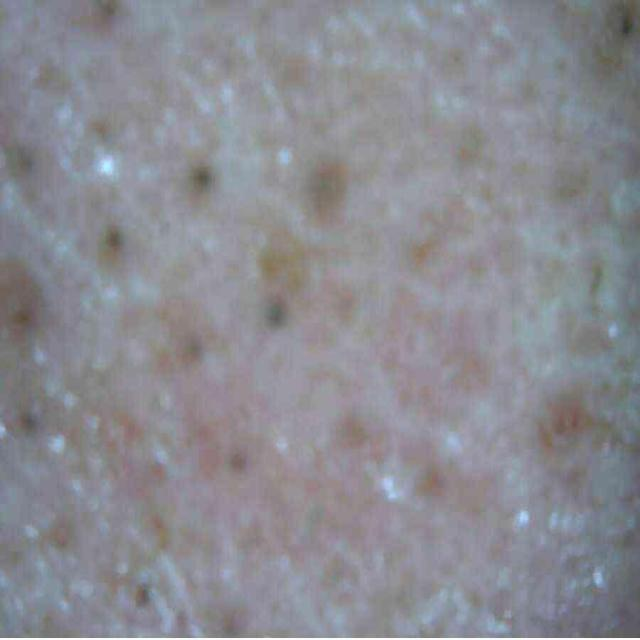s: (196, 208, 524, 575), (532, 397, 592, 459)
